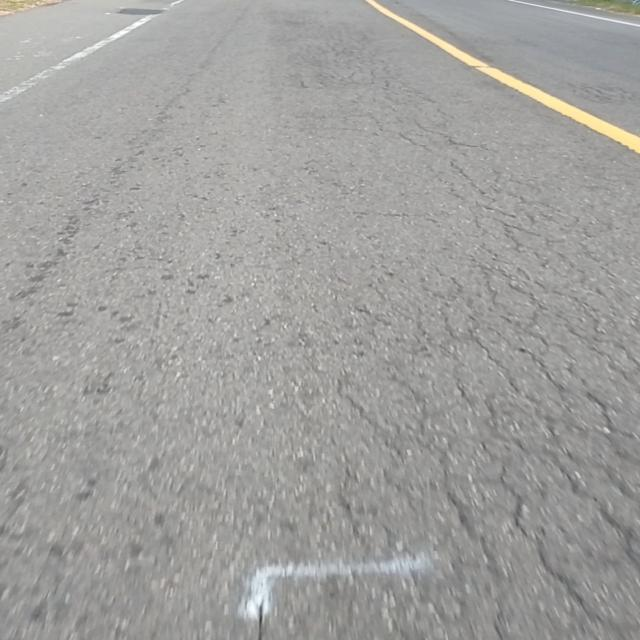Retak Buaya: (422, 188, 640, 640)
